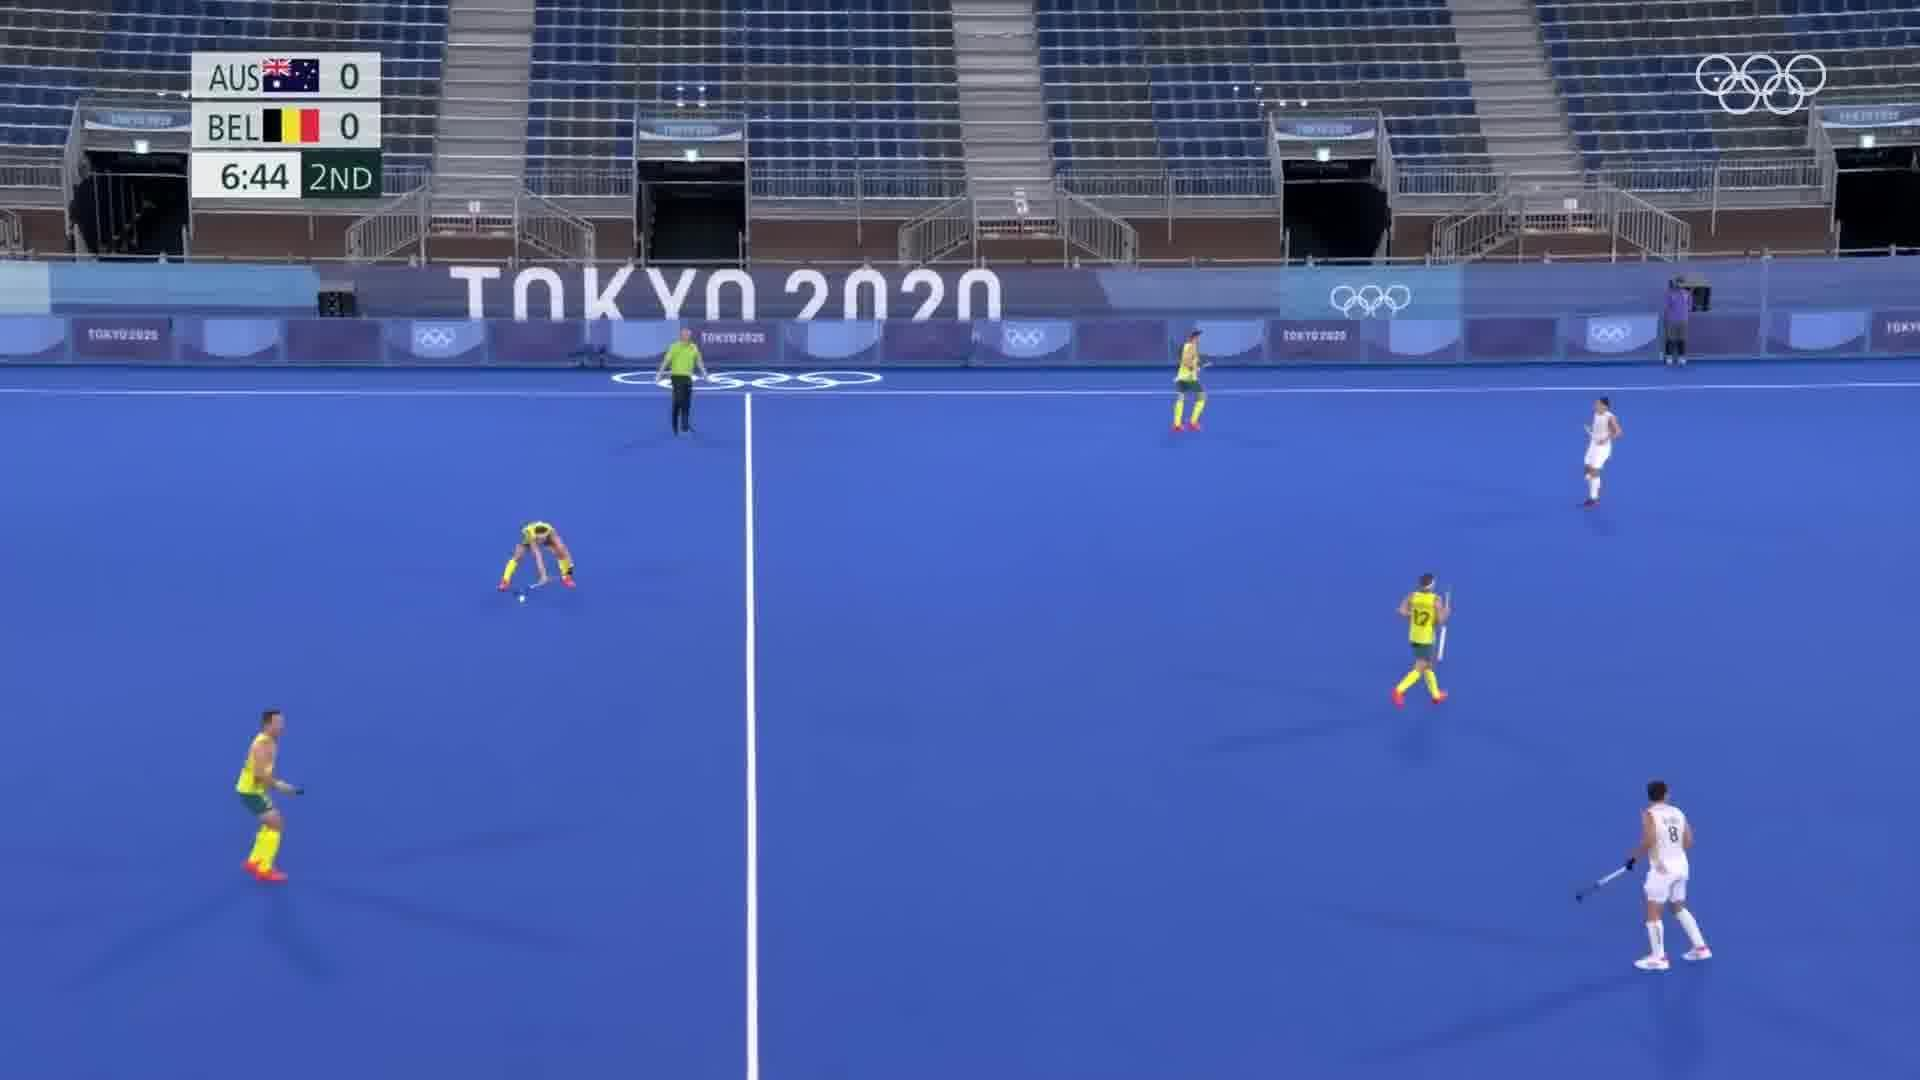ball: (509, 591, 537, 609)
